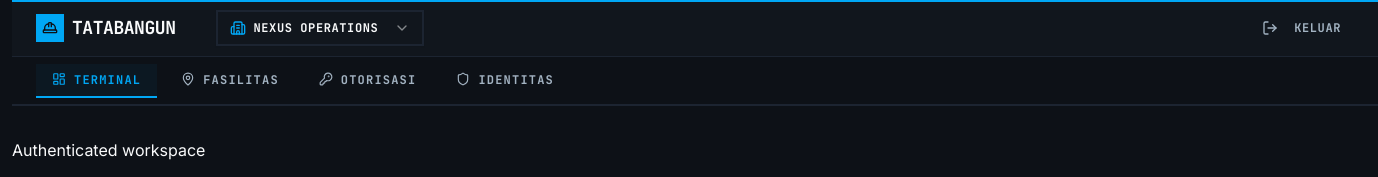
Test: authenticated AppShell accessibility regressions › moves the current-page state when navigation changes route
The width and height of the screenshot is (1378, 177).
Click the link "Fasilitas". click: (230, 80)
box: x1=181 y1=72 x2=279 y2=88
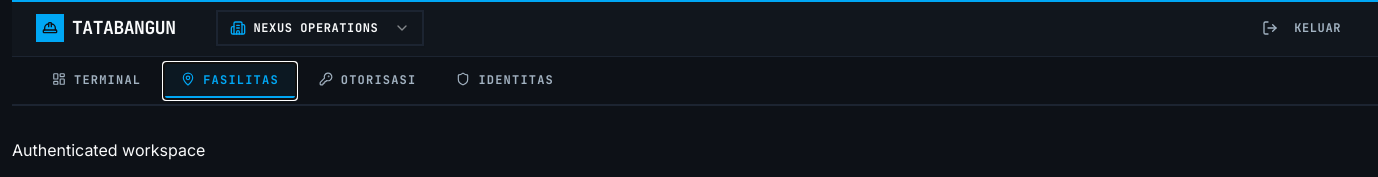
Check: the link "Terminal" does not have attribute aria-current, box x1=52 y1=72 x2=141 y2=88
Check: the link "Fasilitas" is marked as current, box x1=165 y1=64 x2=295 y2=98
